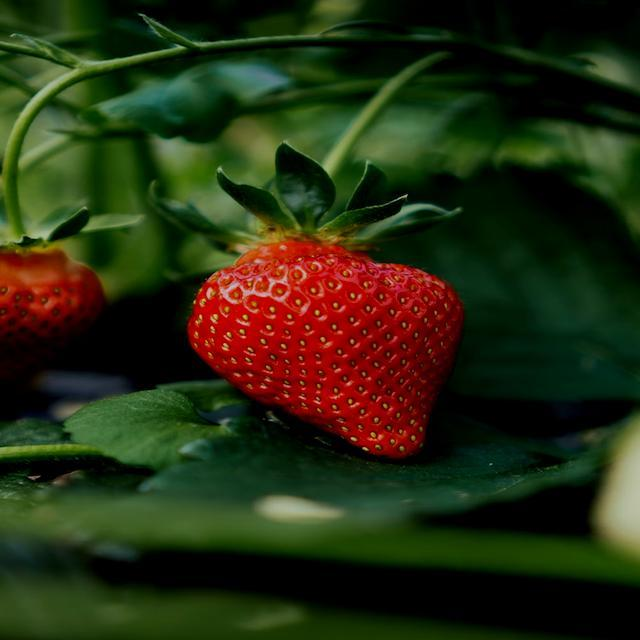strawberry: (188, 239, 464, 458), (0, 248, 105, 379)
